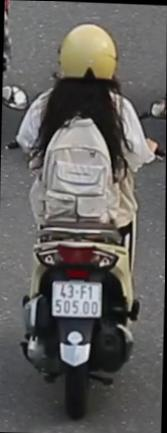LP: (49, 274, 105, 318)
helmet: (55, 20, 123, 84)
